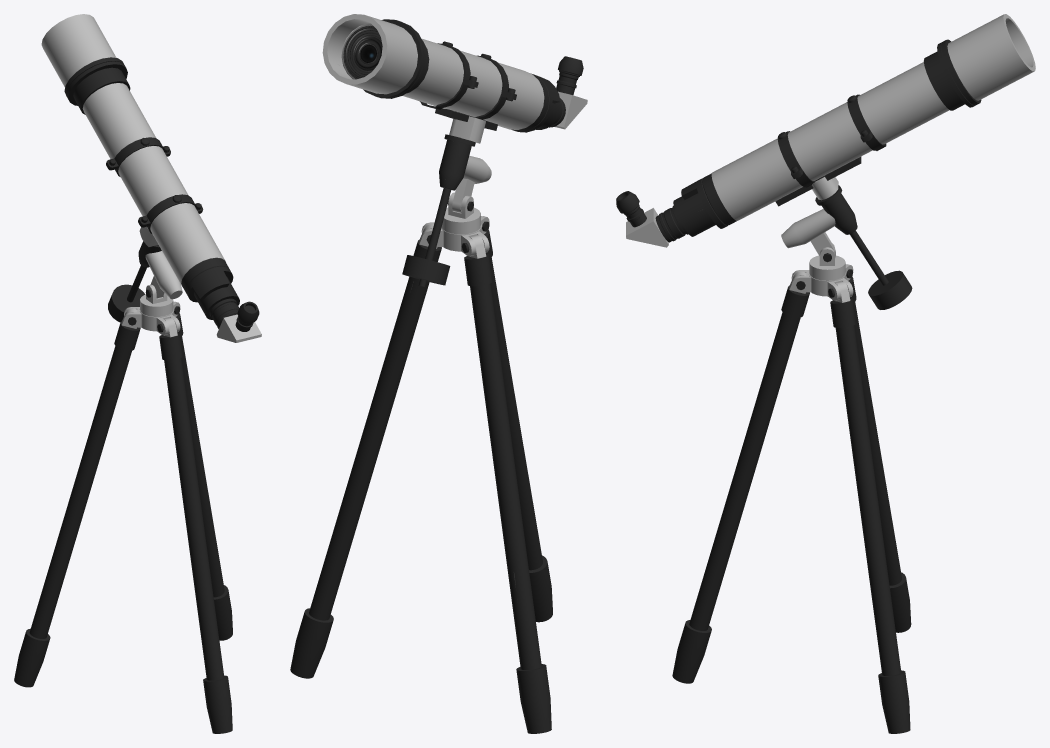
File: Telescope.fbx
3 views of the same model, side by side, from view 1: azimuth 30°, elevation 25°; view 2: azimuth 150°, elevation 25°; view 3: azimuth 270°, elevation 25° (orthographic). The views are drawn at different scales.
Parts seen in each view (by area): view 1: Telescope; view 2: Telescope; view 3: Telescope.
Part boxes in pixels (left/top/right/bottom): Telescope: left=14, top=14, right=261, bottom=733; Telescope: left=290, top=14, right=587, bottom=733; Telescope: left=616, top=14, right=1035, bottom=733.
Bounding box in the file's own units: 4.52 × 12.23 × 7.01.
Materials: 1 (1 with a texture image).
